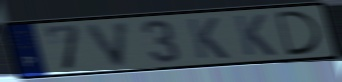3: (141, 17, 183, 66)
7: (42, 23, 83, 72)
D: (273, 10, 325, 58)
K: (231, 13, 279, 57), (184, 16, 231, 60)
V: (84, 20, 133, 69)
